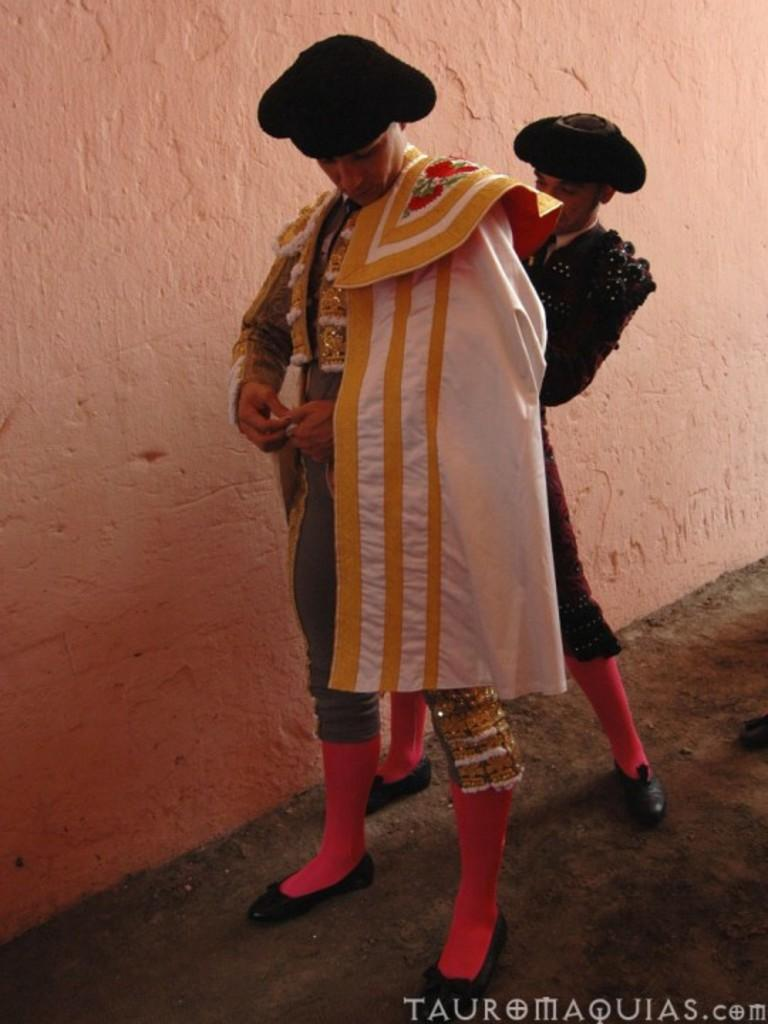Hat: (253, 32, 435, 161), (508, 114, 648, 198)
